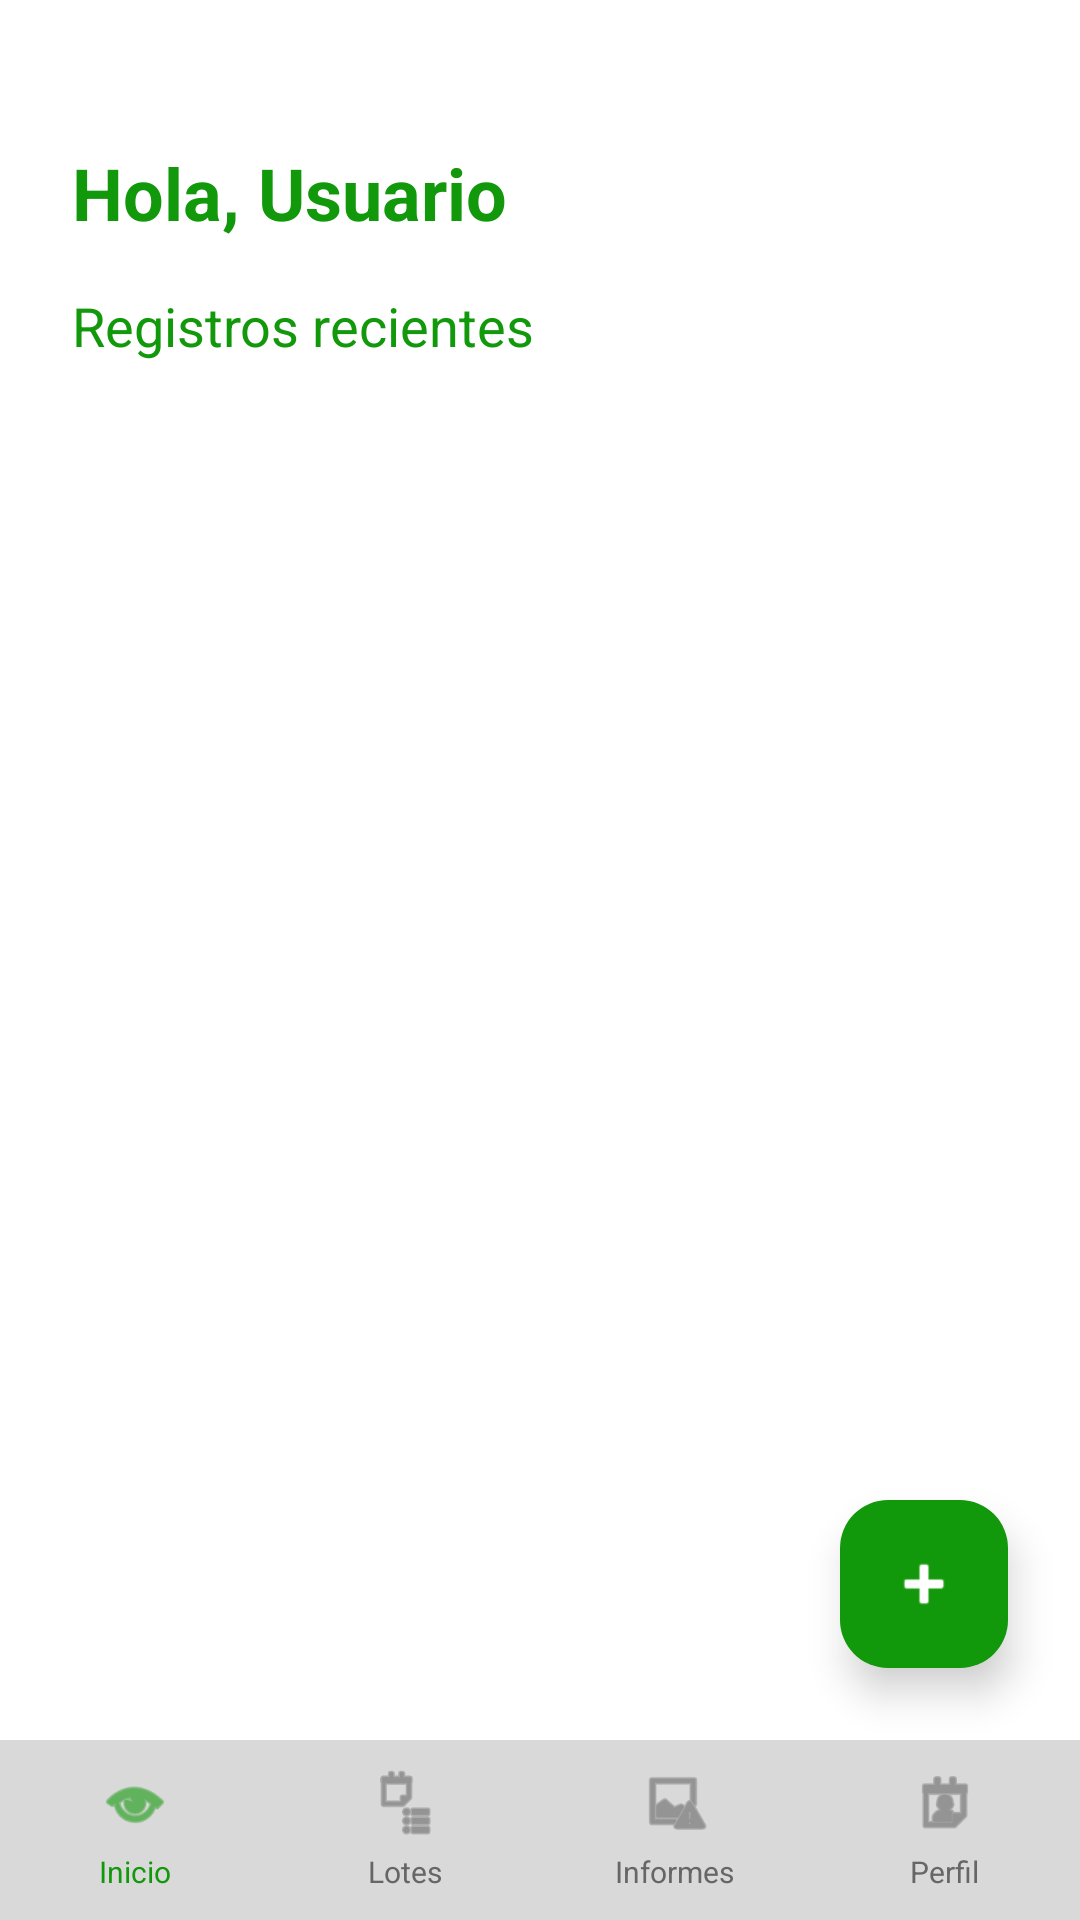

Icon click points for this 1080x1920 phone screenshot, format (x,y):
add: (924,1584)
agenda: (405,1802)
calendar: (945,1802)
view: (135,1804)
